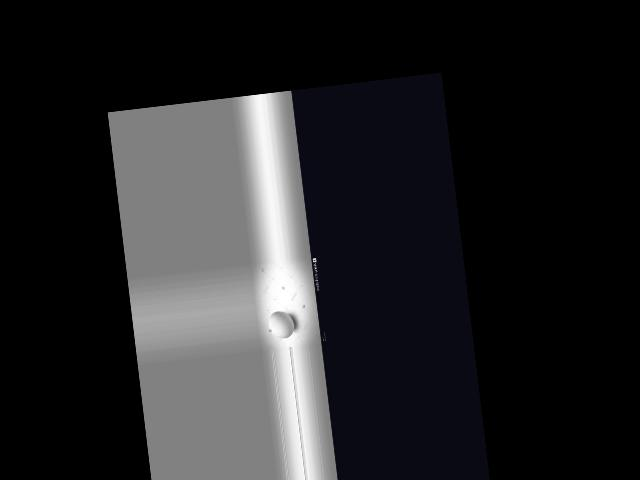egg: (268, 310, 296, 340)
